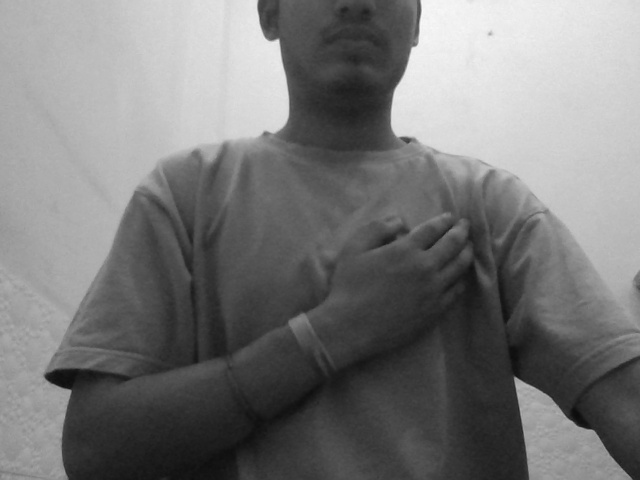Sorry: (289, 203, 508, 377)
